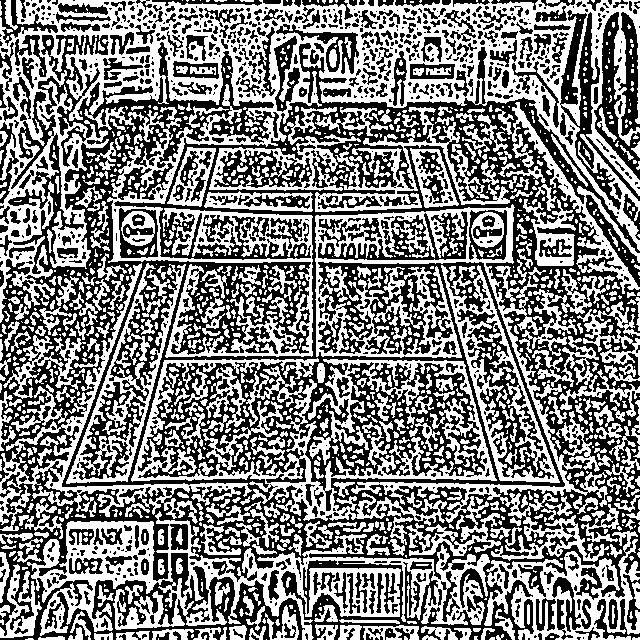left side: (64, 146, 218, 485), (409, 147, 562, 484)
player: (302, 361, 341, 514), (272, 68, 294, 138)
